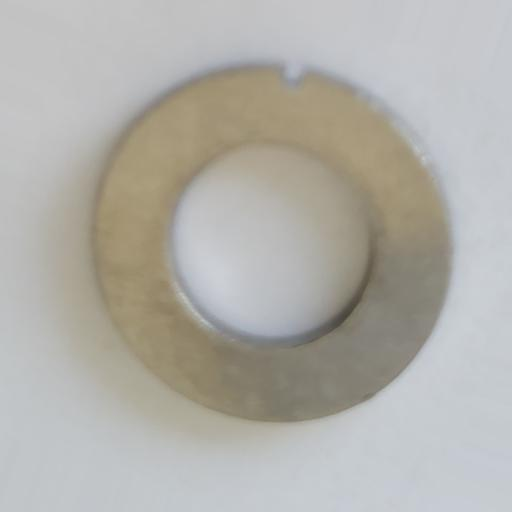burr: (280, 64, 308, 87)
